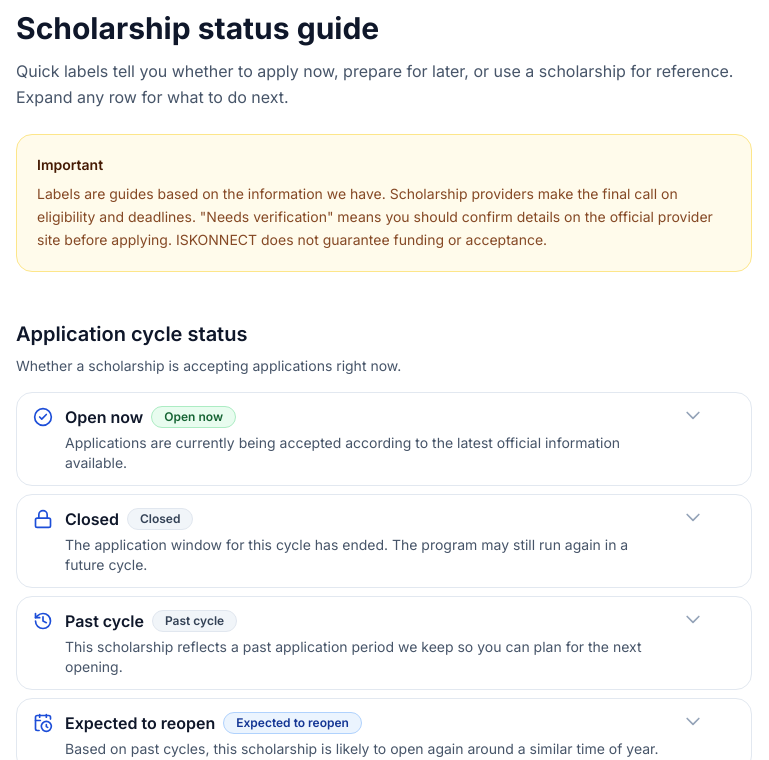
Test: ScholarshipStatusPage (C3) › accordion expands on summary click
Click the heading "Open now" at {"x": 384, "y": 439}, box [17,393,751,485]
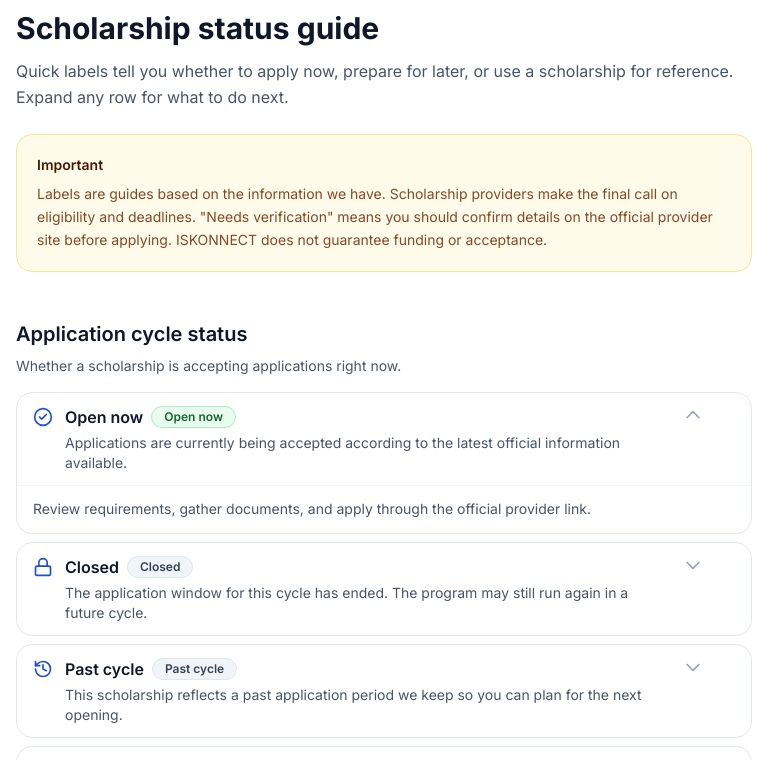
Check: the text "Review requirements, gather documents" is shown, box [33,500,591,517]
